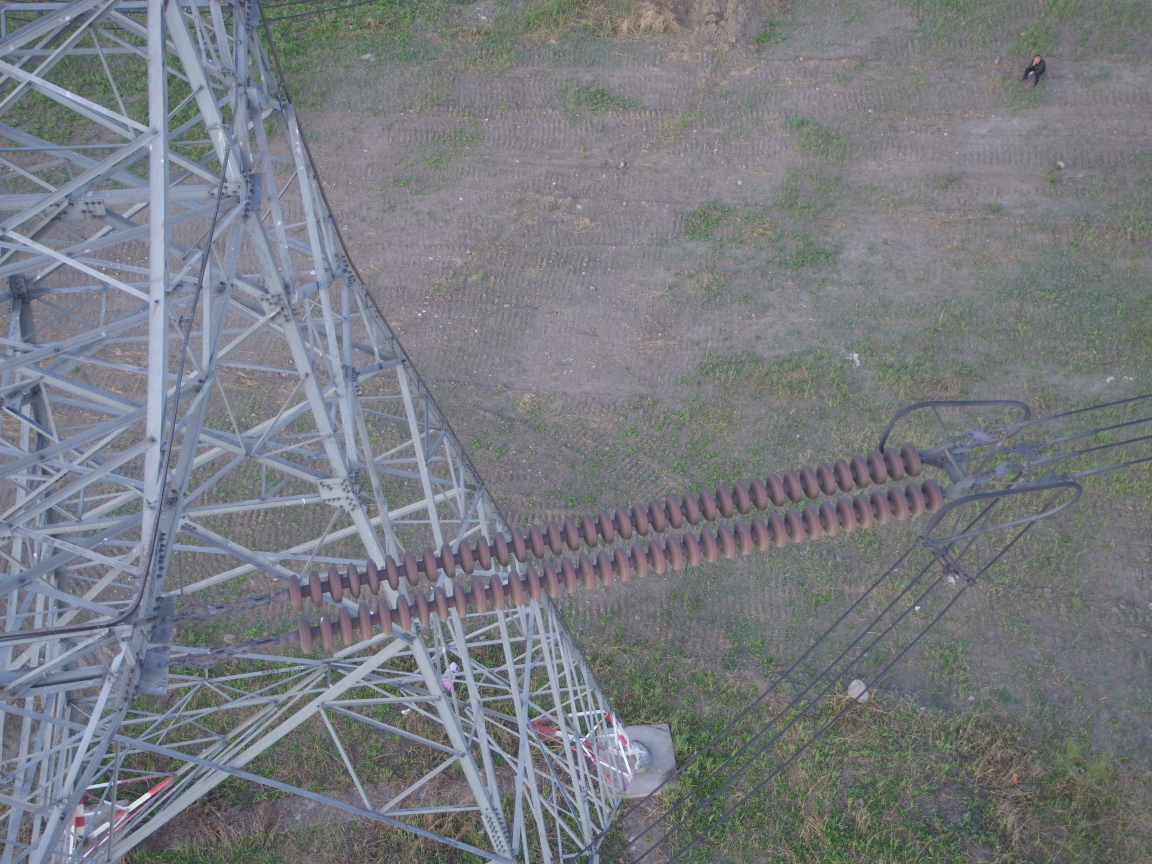insulator: (220, 441, 955, 657)
